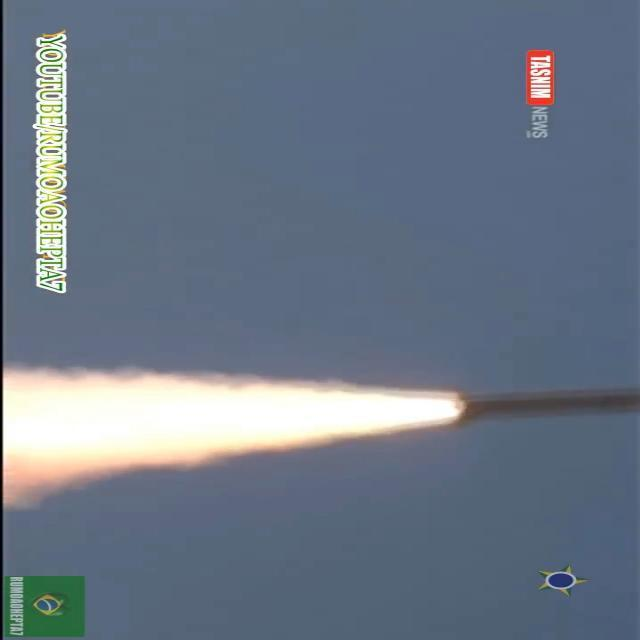Missile: (425, 376, 640, 434)
